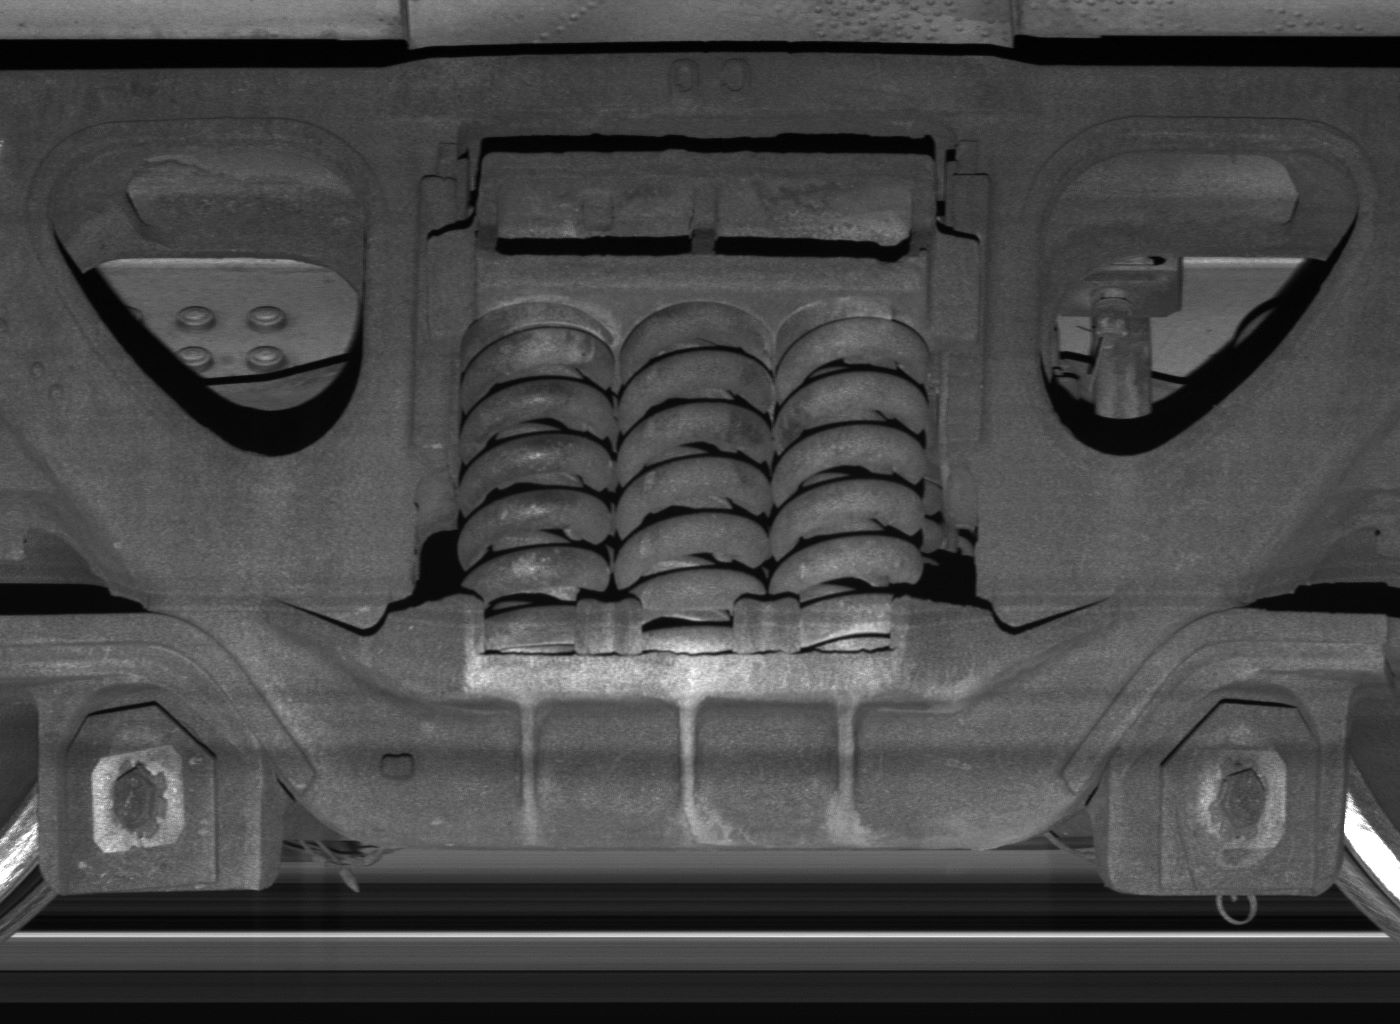normal: (39, 682, 261, 899), (1111, 684, 1343, 886)
